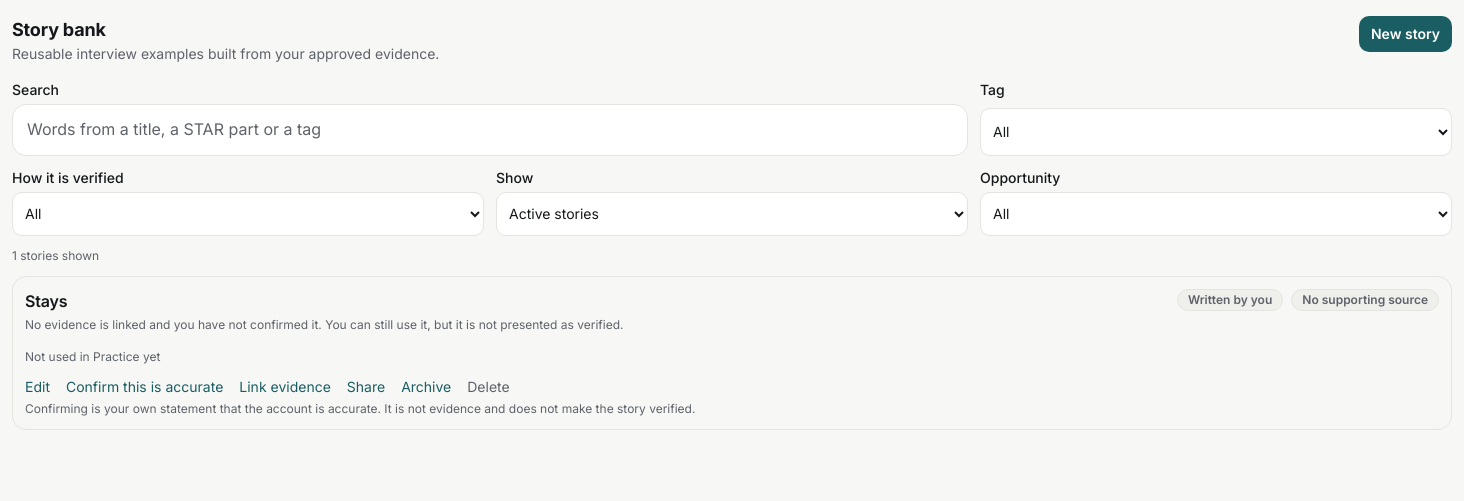
Test: StoryBank: create, edit, search, archive, delete › shows a server error without losing the story when an action fails
The image size is (1464, 501).
What coordinates should you click on to do the following:
click the button "Confirm this is accurate"
I would click on:
 (145, 387)
Its box is [66,377,223,397].
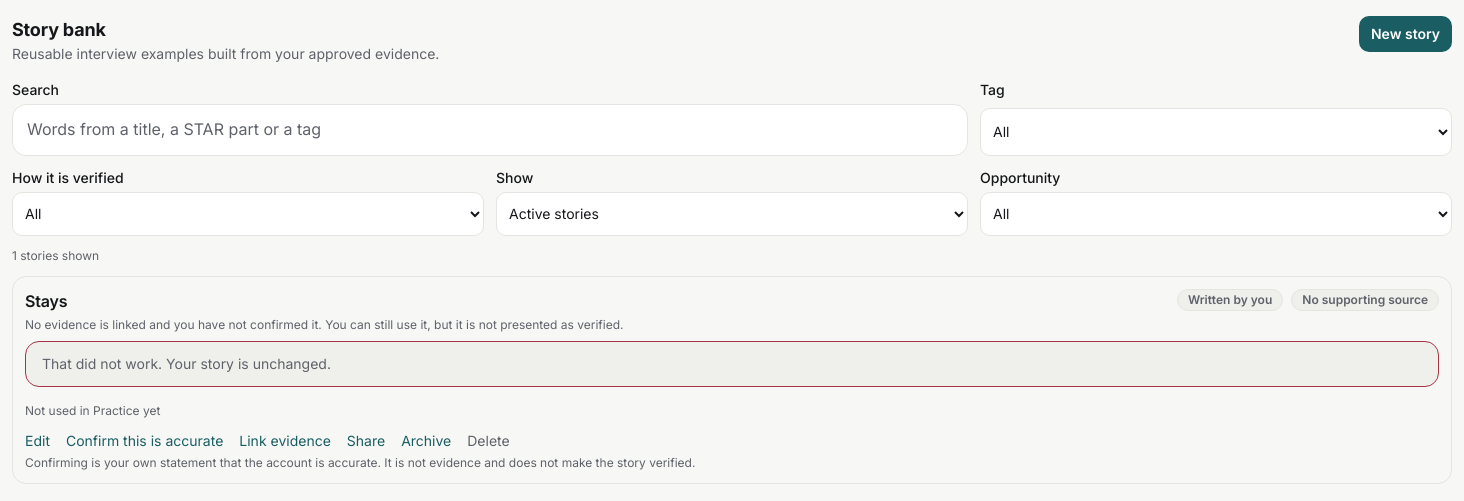
Expected: the heading "Stays" is shown, [25,289,68,313]
Result: the message "That did not work. Your story is unchanged." is shown at [25,341,1439,387]
